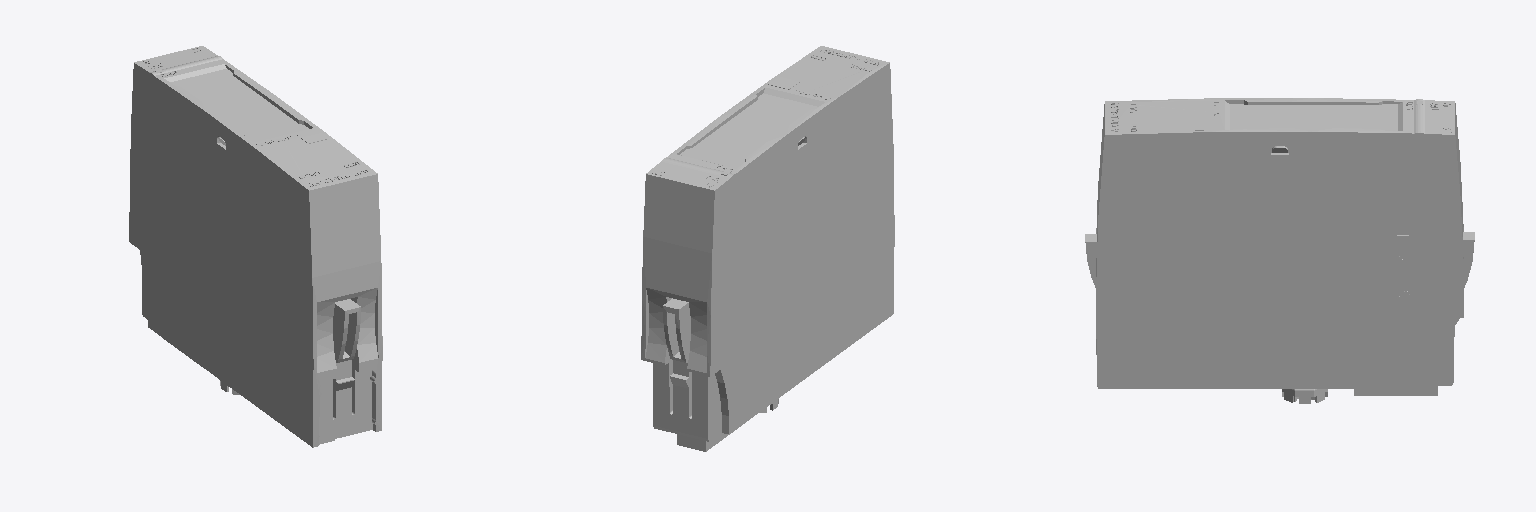
3 views of the same model, side by side, from view 1: azimuth 30°, elevation 25°; view 2: azimuth 150°, elevation 25°; view 3: azimuth 270°, elevation 25° (orthographic).
Visible parts, largest first — view 1: A5E[number redacted]A_001/A5E[number redacted]A_001, A5E[number redacted]A_001/A5E[number redacted]A_001; view 2: A5E[number redacted]A_001/A5E[number redacted]A_001; view 3: A5E[number redacted]A_001/A5E[number redacted]A_001.
Part boxes in pixels (bbox=[...]): A5E[number redacted]A_001/A5E[number redacted]A_001: bbox=[129, 46, 382, 447]; A5E[number redacted]A_001/A5E[number redacted]A_001: bbox=[143, 47, 367, 186]; A5E[number redacted]A_001/A5E[number redacted]A_001: bbox=[641, 46, 894, 451]; A5E[number redacted]A_001/A5E[number redacted]A_001: bbox=[1085, 98, 1474, 403].
Size of the model in its own units: 15.19 by 58.65 by 73.16.